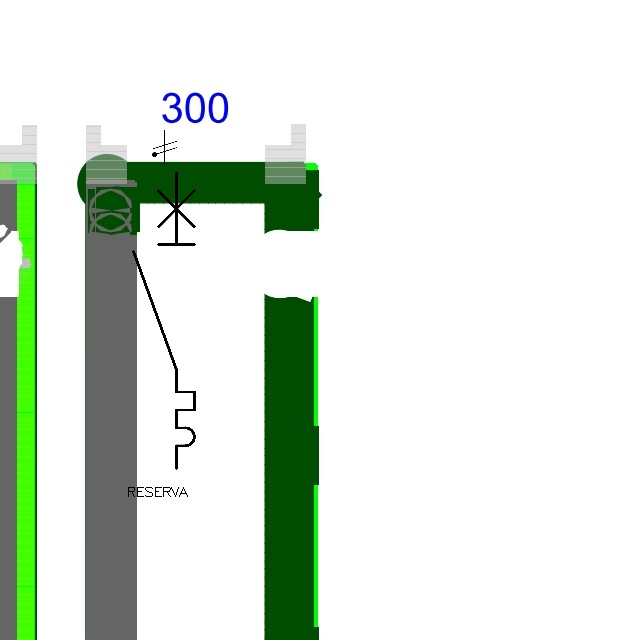interruptor_termomagnetico: (126, 165, 202, 476)
